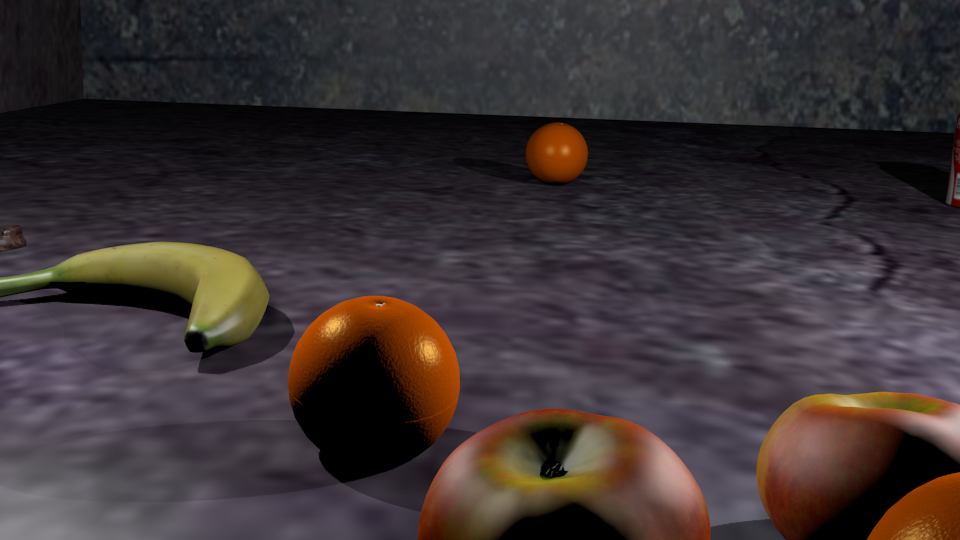apple: (418, 409, 711, 540), (757, 392, 960, 526)
banana: (1, 242, 270, 348), (1, 226, 27, 251)
cola_can: (951, 132, 960, 207)
orange: (288, 296, 460, 439), (868, 473, 960, 540), (528, 124, 588, 179)
